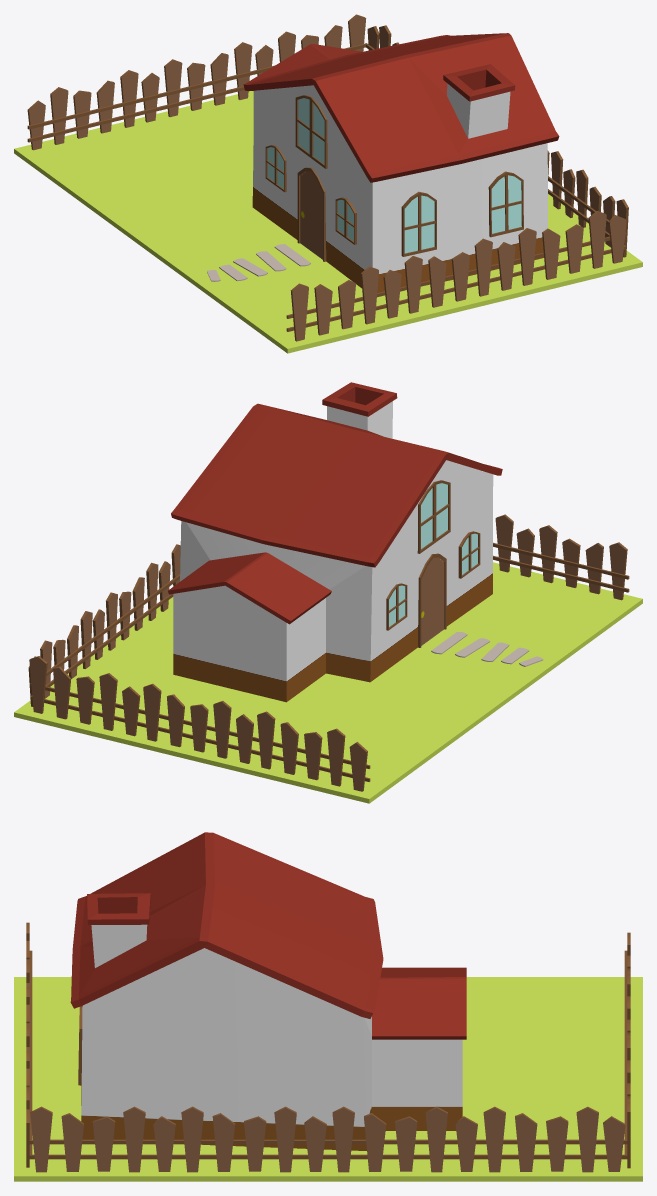
Rendered from House_01_Landscape.fbx.
The picture shows the model from 3 angles, top to bottom: view 1: azimuth 30°, elevation 25°; view 2: azimuth 150°, elevation 25°; view 3: azimuth 270°, elevation 25°; orthographic projection. The views are drawn at different scales.
Parts seen in each view (by area): view 1: House_01_Landscape_Merged; view 2: House_01_Landscape_Merged; view 3: House_01_Landscape_Merged.
Part boxes in pixels (x1,y1,x2,y2): House_01_Landscape_Merged: (14, 14, 642, 353); House_01_Landscape_Merged: (14, 382, 642, 803); House_01_Landscape_Merged: (14, 832, 642, 1181).
Size of the model in its own units: 33.75 by 16.77 by 45.
6 materials, 6 textured.
